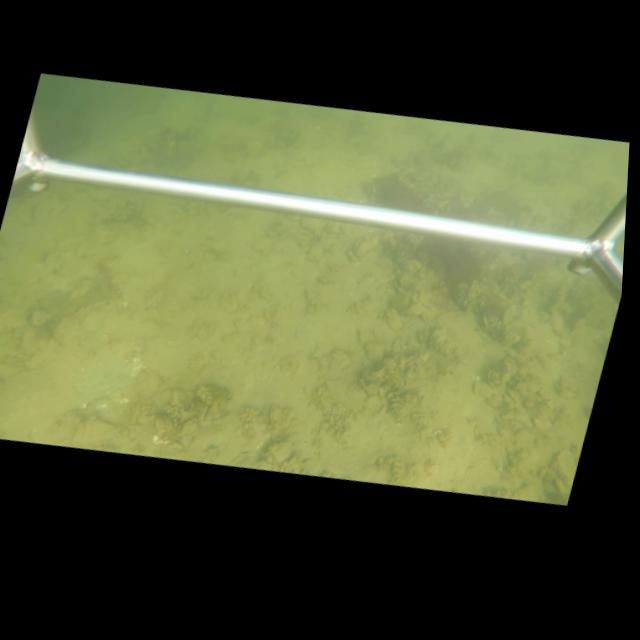Oyster-Closed: (267, 404, 297, 432), (350, 235, 379, 262)
